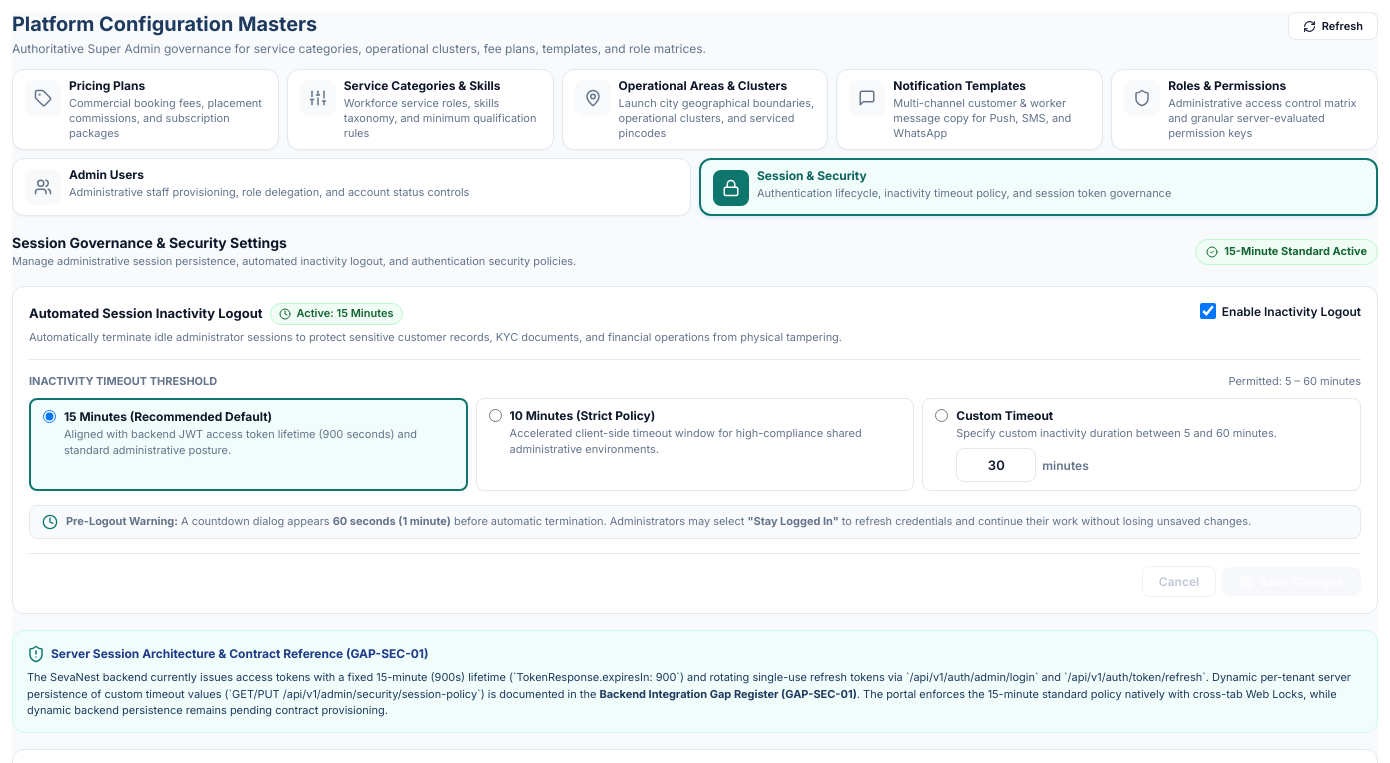
Scenario: Custom Session Inactivity Timeout Configuration & Guard Enforcement › 1. Active Timeout Display & Quick Selections › cancels unsaved changes and restores active policy
Click the radio button with test id "timeout-option-10": (495, 415) x1=489 y1=409 x2=502 y2=422
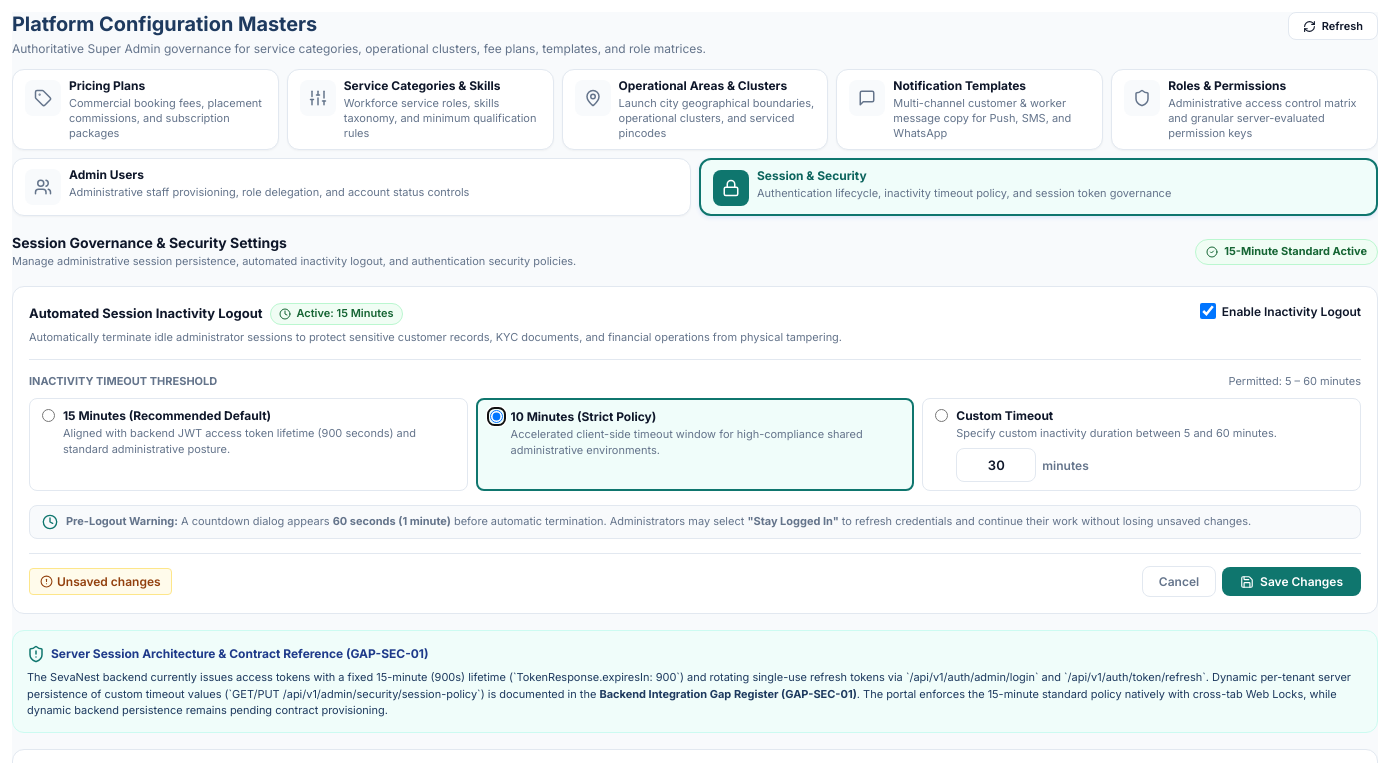
Result: the element with test id "unsaved-changes-indicator" is shown at x1=29 y1=568 x2=172 y2=595
Click the button with test id "cancel-security-policy-btn": (1179, 582) x1=1142 y1=566 x2=1216 y2=597
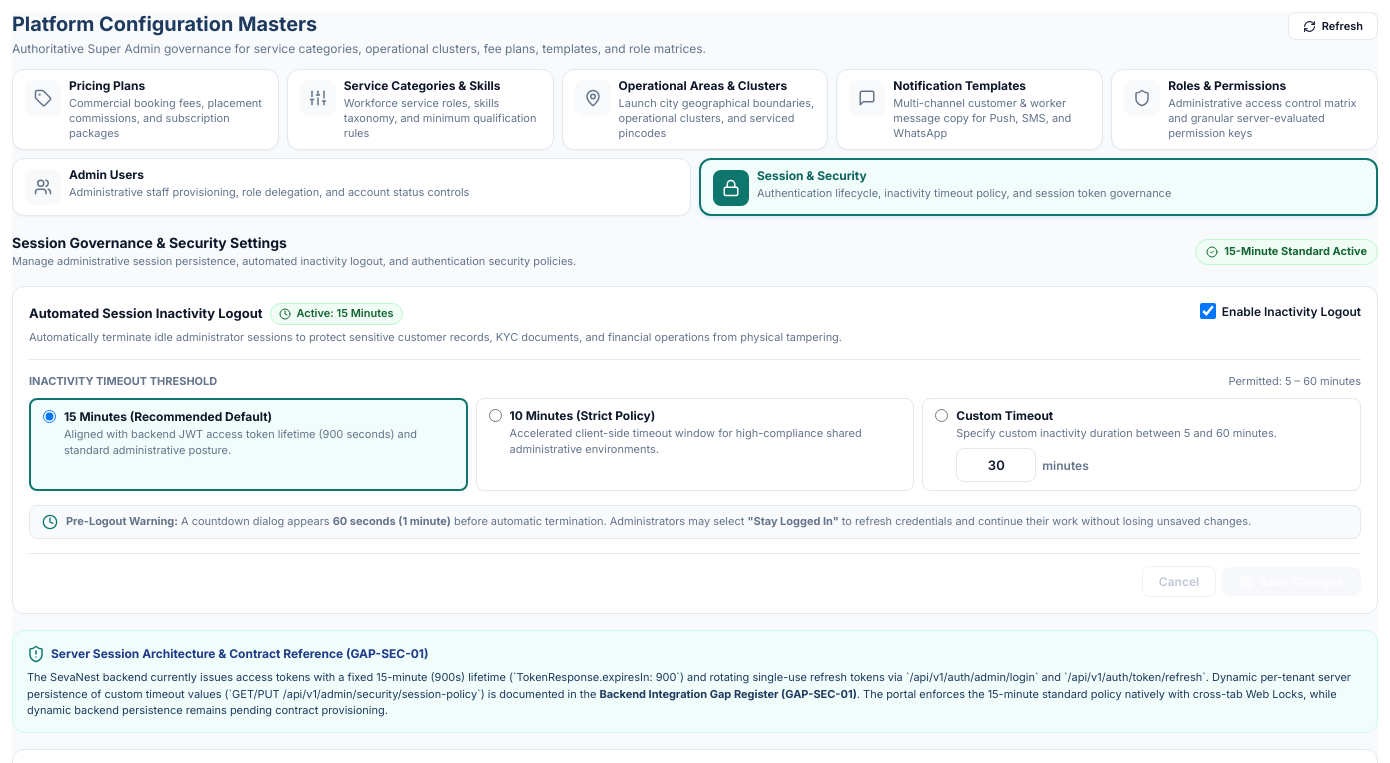
Result: the element with test id "unsaved-changes-indicator" is gone
Result: the radio button with test id "timeout-option-15" is checked at x1=43 y1=410 x2=56 y2=423
